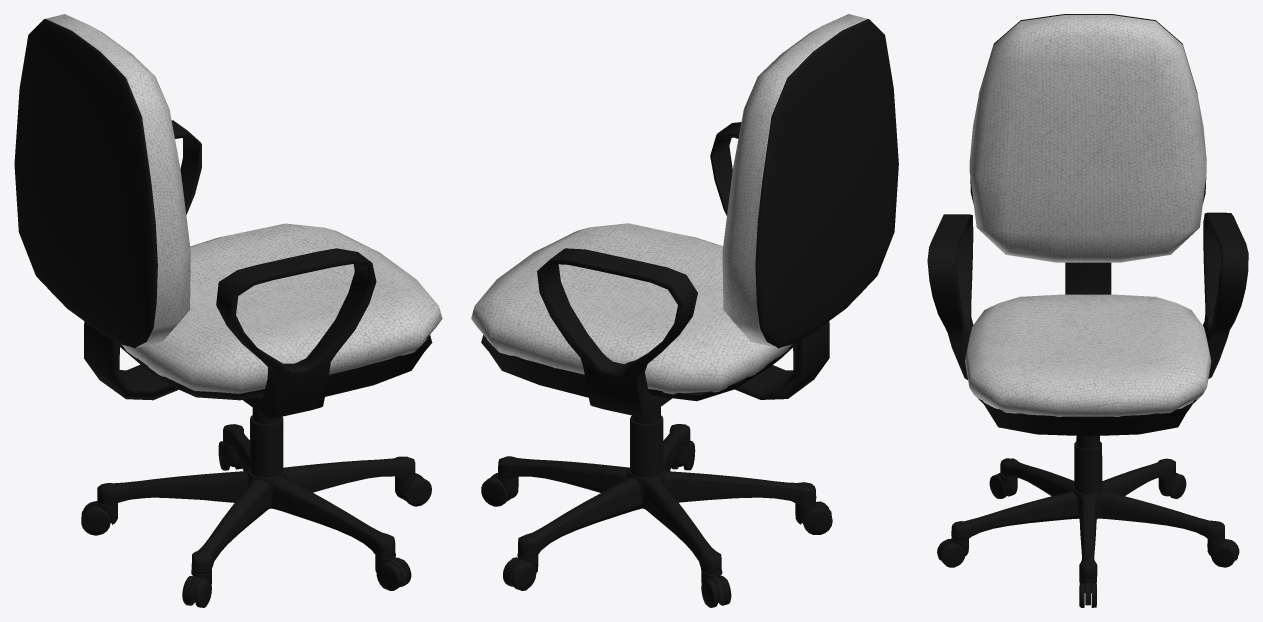
The model's file is Chair.fbx.
The picture shows the model from 3 angles, left to right: view 1: azimuth 30°, elevation 25°; view 2: azimuth 150°, elevation 25°; view 3: azimuth 270°, elevation 25°; orthographic projection. The views are drawn at different scales.
Visible parts, largest first — view 1: Chair; view 2: Chair; view 3: Chair.
Part boxes in pixels (bbox=[...]): Chair: bbox=[14, 14, 442, 607]; Chair: bbox=[471, 14, 898, 607]; Chair: bbox=[927, 14, 1248, 607].
Bounding box in the file's own units: 103 × 151 × 96.43.
